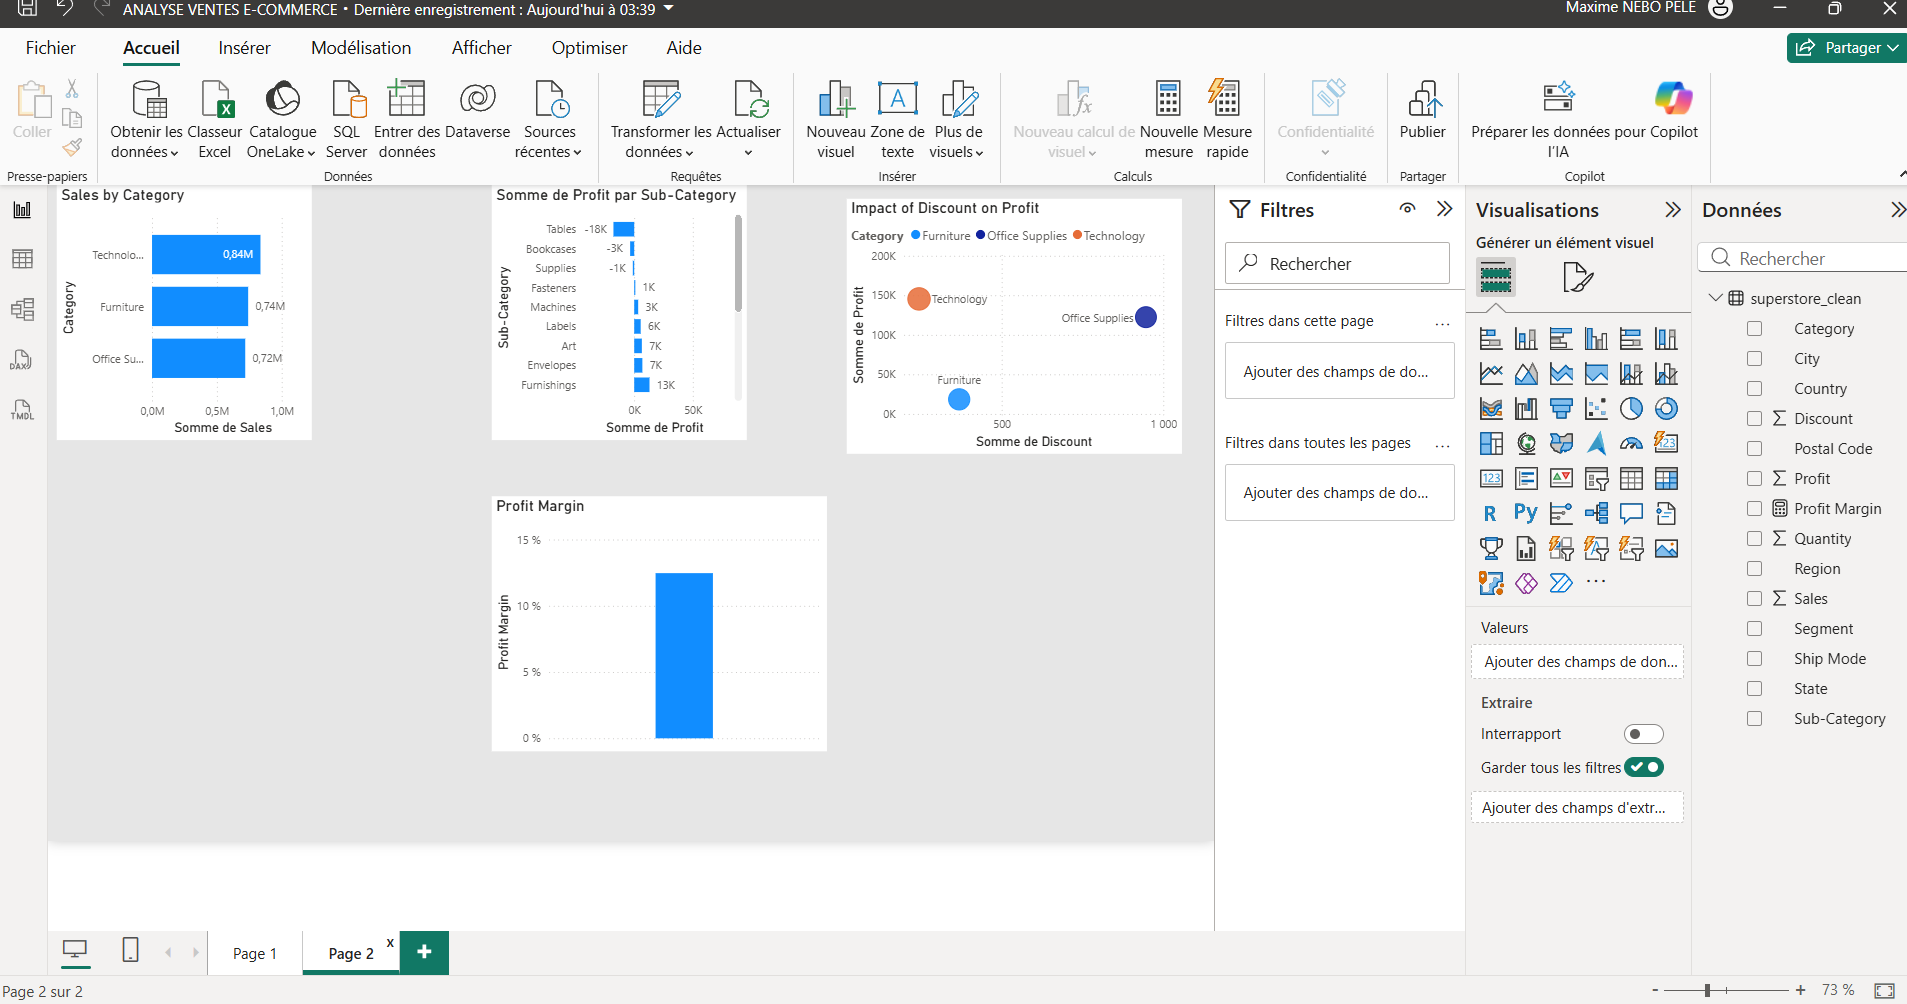

This screenshot's page, from the dashboard's own definition file:
{"tool":"powerbi","page":{"name":"Page 2","canvas":[1280,720],"ordinal":1},"visuals":[{"type":"clusteredBarChart","title":"Sales by Category","fields":{"Category":["superstore_clean.Category"],"Y":["Sum(superstore_clean.Sales)"]},"box":[10,0,280,280],"z":0},{"type":"clusteredBarChart","fields":{"Category":["superstore_clean.Sub-Category"],"Y":["Sum(superstore_clean.Profit)"]},"box":[487.1,0,279.9,279.9],"z":1000},{"type":"scatterChart","title":"Impact of Discount on Profit","fields":{"X":["Sum(superstore_clean.Discount)"],"Y":["Sum(superstore_clean.Profit)"],"Size":["Sum(superstore_clean.Sales)"],"Series":["superstore_clean.Category"]},"box":[876.8,15.1,367.8,279.9],"z":2000},{"type":"clusteredColumnChart","fields":{"Y":["superstore_clean.Profit Margin"]},"box":[487.1,341.7,367.8,279.9],"z":2001}]}

Visuals, with their boxes on the page's 1280x720 design canvas (x1, y1, x2, y2). These are canvas units, not pixel positions in the 1907x1004 screenshot, which may show the page scaled, cropped or inside an application window:
"Sales by Category" clusteredBarChart: (left=10, top=0, right=290, bottom=280)
clusteredBarChart - superstore_clean.Sub-Category x Sum(superstore_clean.Profit): (left=487, top=0, right=767, bottom=280)
"Impact of Discount on Profit" scatterChart: (left=877, top=15, right=1245, bottom=295)
clusteredColumnChart - superstore_clean.Profit Margin: (left=487, top=342, right=855, bottom=622)
